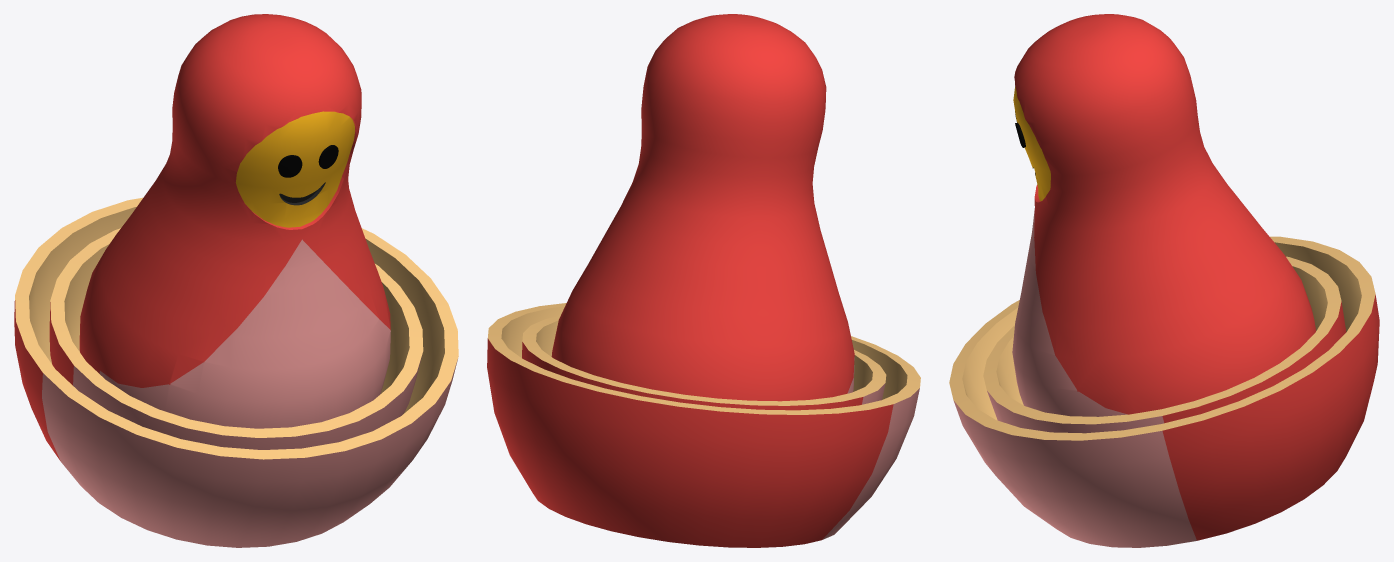
The model's file is nesting_dolls.gltf.
The picture shows the model from 3 angles, left to right: view 1: azimuth 30°, elevation 25°; view 2: azimuth 150°, elevation 25°; view 3: azimuth 270°, elevation 25°; orthographic projection. The views are drawn at different scales.
Visible parts, largest first — view 1: Sphere.524, Circle.2536; view 2: Sphere.524; view 3: Sphere.524.
Part boxes in pixels (x1=…): Sphere.524: x1=14, y1=14, x2=458, y2=547; Circle.2536: x1=278, y1=145, x2=338, y2=177; Sphere.524: x1=487, y1=14, x2=920, y2=547; Sphere.524: x1=949, y1=14, x2=1379, y2=547.
Bounding box in the file's own units: 1.81 × 2.2 × 1.78.
1 material, 1 textured.
